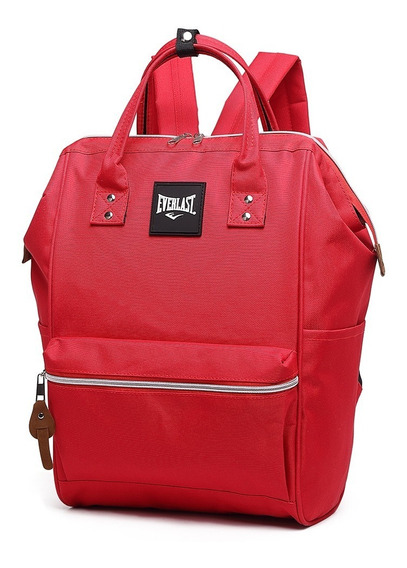cartera: (21, 27, 385, 528)
